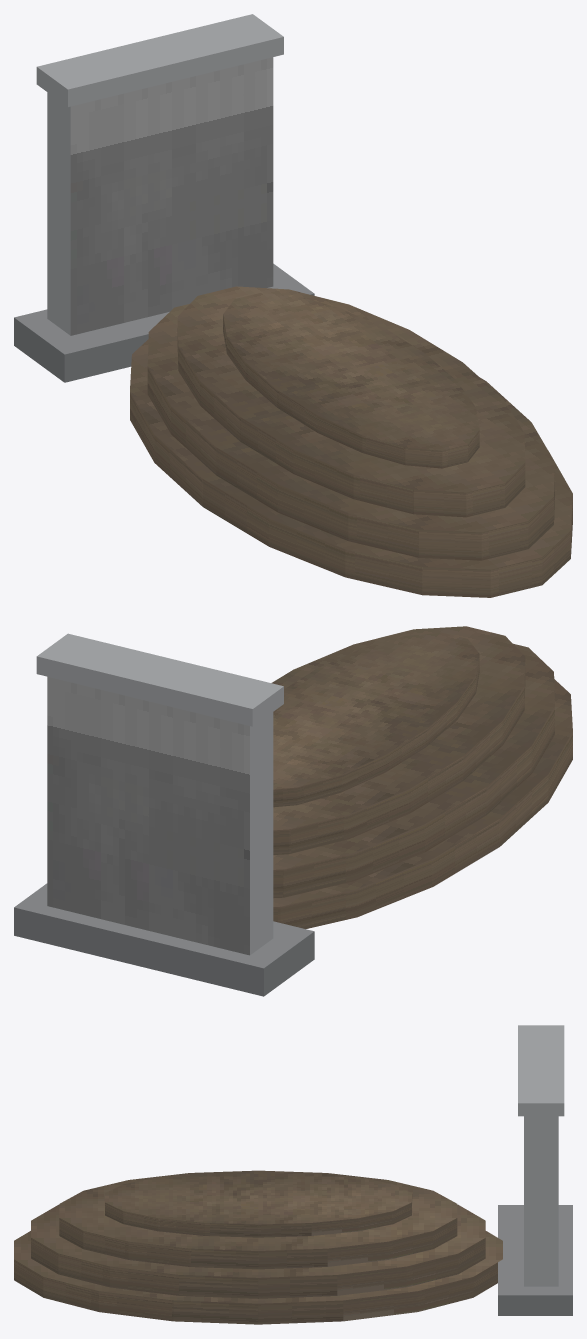
The model's file is Building_Grave__Full.glb.
3 renders of one model, top to bottom at view 1: azimuth 30°, elevation 25°; view 2: azimuth 150°, elevation 25°; view 3: azimuth 270°, elevation 25°, orthographic. The views are drawn at different scales.
Parts seen in each view (by area): view 1: Grave__Full; view 2: Grave__Full; view 3: Grave__Full.
Part boxes in pixels (x1,y1,x2,y2): Grave__Full: (14, 14, 572, 597); Grave__Full: (14, 626, 572, 996); Grave__Full: (14, 1025, 572, 1324).
Bounding box in the file's own units: 0.88 × 0.79 × 1.94.
Materials: 1 (1 with a texture image).
